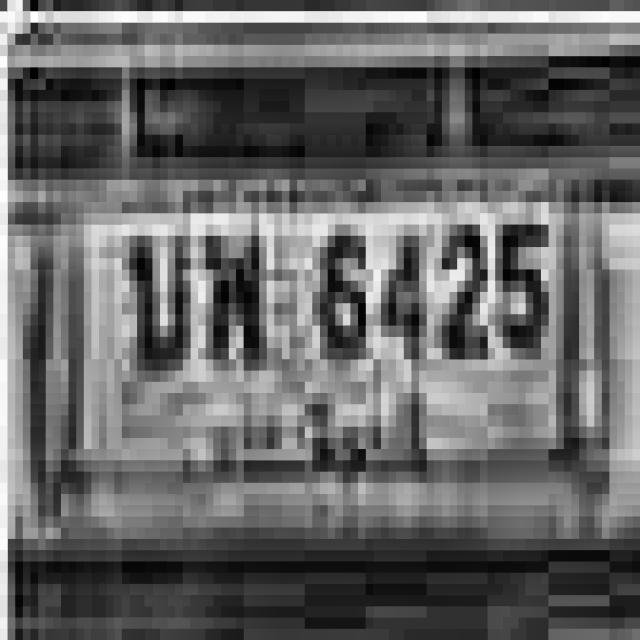license-plate: (49, 181, 624, 521)
